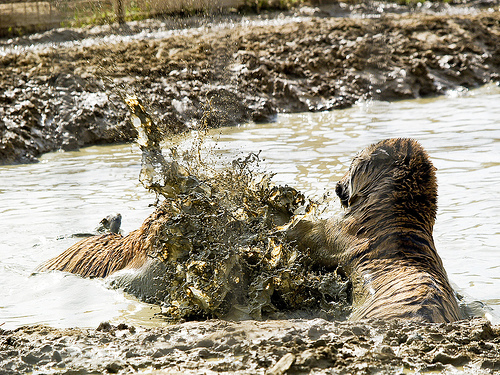Tigre: (344, 141, 439, 272)
